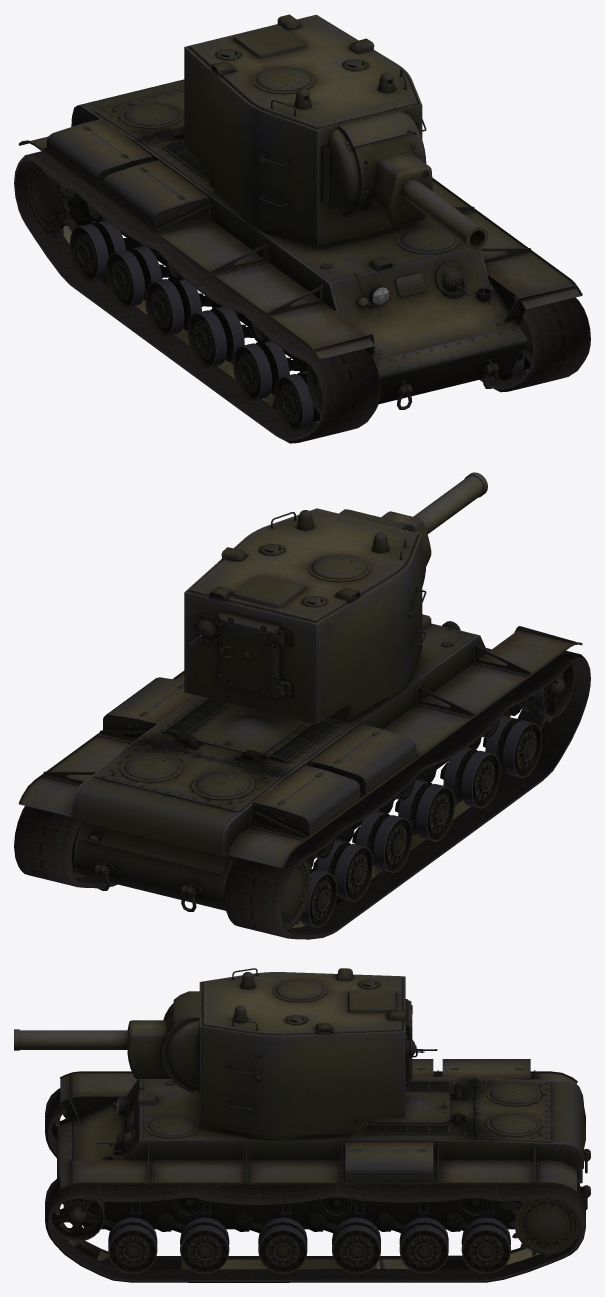
File: Tank.fbx
3 renders of one model, top to bottom at view 1: azimuth 30°, elevation 25°; view 2: azimuth 150°, elevation 25°; view 3: azimuth 270°, elevation 25°, orthographic. The views are drawn at different scales.
Visible parts, largest first — view 1: tank; view 2: tank; view 3: tank.
Part boxes in pixels (x1=…): tank: x1=14, y1=14, x2=590, y2=443; tank: x1=14, y1=472, x2=590, y2=939; tank: x1=14, y1=968, x2=590, y2=1282.
Size of the model in its own units: 1162 by 1153 by 2522.
Materials: 2 (2 with a texture image).
